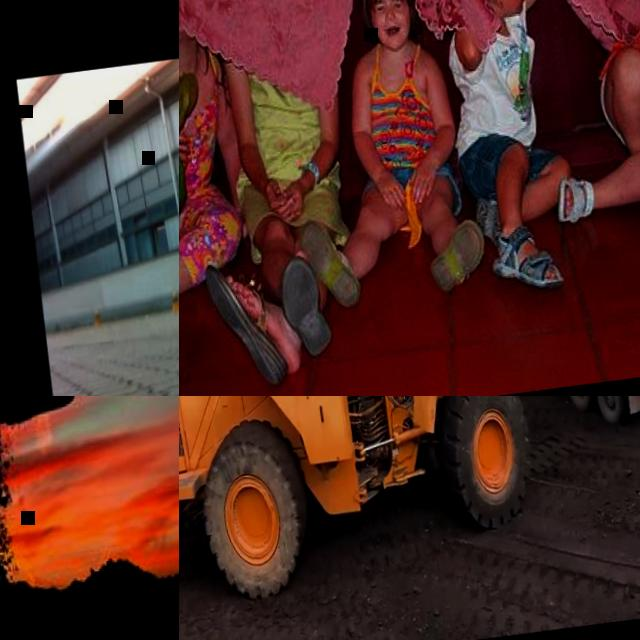NO-Mask: (375, 19, 410, 52), (503, 0, 528, 19), (179, 12, 189, 42)
NO-Safety Vest: (452, 15, 540, 151), (239, 57, 329, 189), (361, 43, 438, 168), (179, 72, 231, 210)
Person: (269, 0, 490, 313), (179, 32, 364, 386), (437, 0, 585, 299), (524, 0, 640, 229), (179, 0, 258, 326)
Safety Cone: (168, 290, 179, 312), (93, 310, 102, 326)
vehicle: (179, 396, 640, 623), (0, 396, 106, 623)
